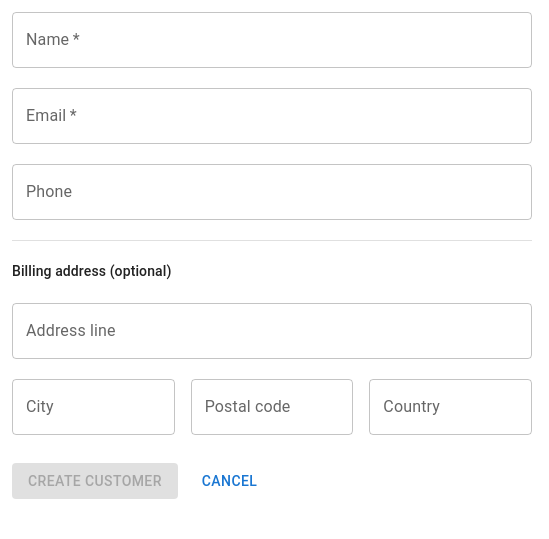
CustomerForm › maps a VALIDATION_FAILED fields[] response back onto the matching field
Type "Blue Sky Retail" into the field labelled "Name *" at (272, 40), box top-left (12, 12), bottom-right (532, 68)
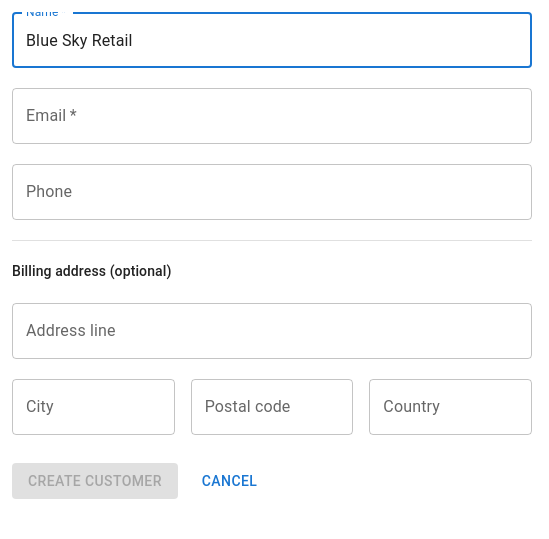
Type "orders@blueskyretail.com" into the field labelled "Email *" at (272, 116), box top-left (12, 88), bottom-right (532, 144)
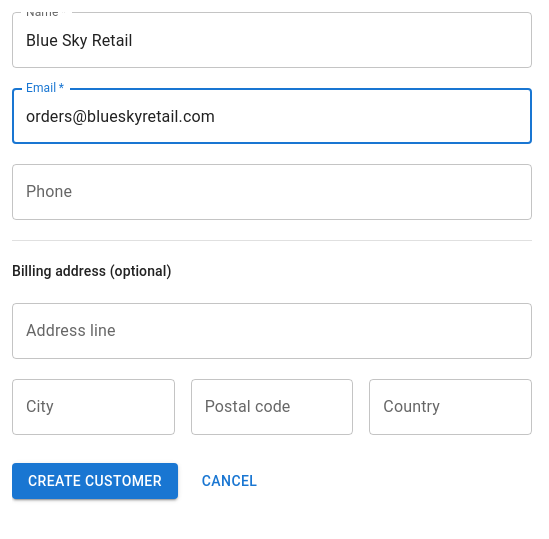
Click the button "Create customer" at (95, 481), box top-left (12, 463), bottom-right (178, 500)
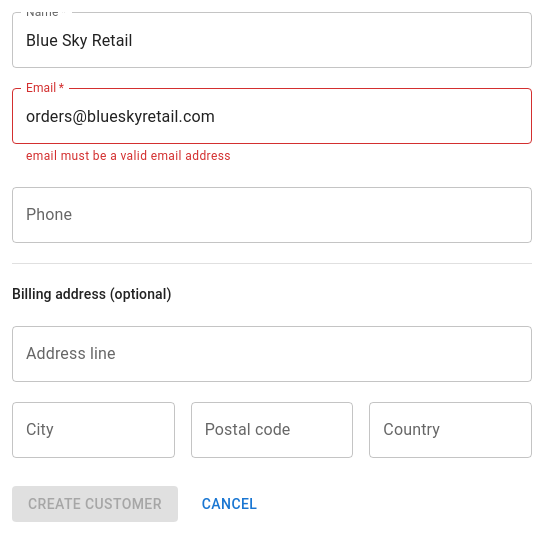
Now the text "email must be a valid email address" is shown, box top-left (26, 149), bottom-right (231, 163)
